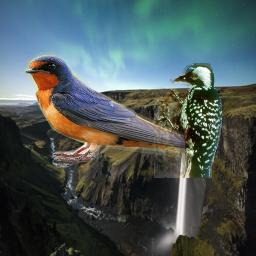Swallow: (20, 51, 214, 168)
Woodpecker: (154, 63, 222, 178)
